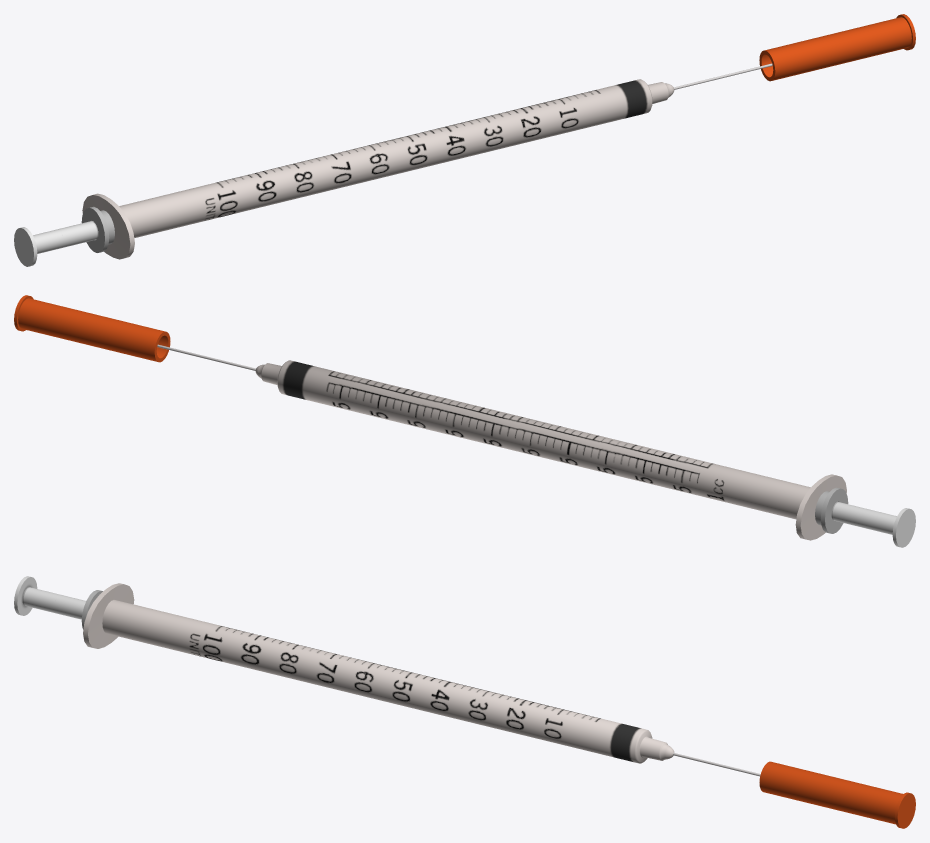
Rendered from jeringa.fbx.
The picture shows the model from 3 angles, top to bottom: view 1: azimuth 30°, elevation 25°; view 2: azimuth 150°, elevation 25°; view 3: azimuth 330°, elevation 25°; orthographic projection.
Parts seen in each view (by area): view 1: SM_Needle.001, SM_Needle_cap_1.001, SM_Needle_plunger.001; view 2: SM_Needle.001, SM_Needle_cap_1.001, SM_Needle_plunger.001; view 3: SM_Needle.001, SM_Needle_cap_1.001, SM_Needle_plunger.001.
Part boxes in pixels (x1,y1,x2,y2): SM_Needle.001: (81, 63, 772, 259); SM_Needle_cap_1.001: (759, 14, 915, 81); SM_Needle_plunger.001: (14, 221, 98, 266); SM_Needle.001: (157, 344, 848, 540); SM_Needle_cap_1.001: (14, 295, 170, 362); SM_Needle_plunger.001: (831, 502, 915, 547); SM_Needle.001: (81, 583, 760, 776); SM_Needle_cap_1.001: (759, 761, 915, 828); SM_Needle_plunger.001: (14, 576, 85, 619).
Size of the model in its own units: 16.93 by 0.9755 by 1.57.
Materials: 1 (1 with a texture image).
